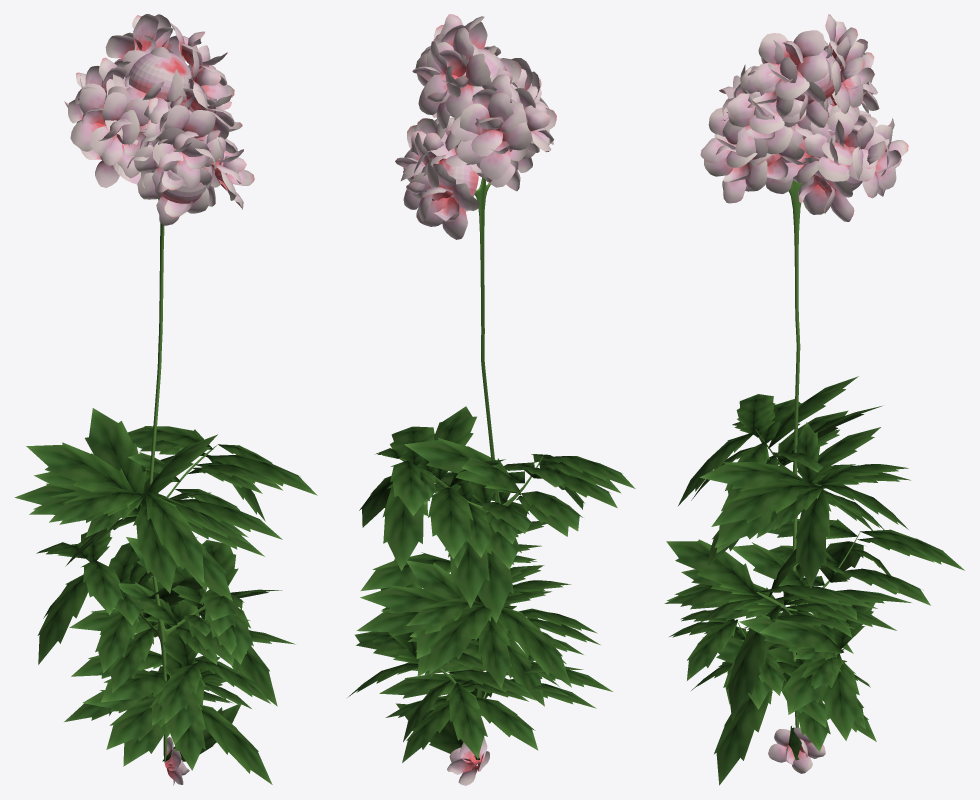
Rendered from Valeriana.fbx.
3 renders of one model, left to right at view 1: azimuth 30°, elevation 25°; view 2: azimuth 150°, elevation 25°; view 3: azimuth 270°, elevation 25°, orthographic. The views are drawn at different scales.
Visible parts, largest first — view 1: Sphere.004|Plane.006|Dupli|2, Sphere.003|Plane.006|Dupli|2, Cylinder.001|Plane|Dupli|74, Cylinder.001|Plane|Dupli|72, Cylinder.001|Plane|Dupli|70, Sphere.003|Plane.006|Dupli|3, Sphere, Cylinder.001|Plane|Dupli|43, Cylinder.001|Plane|Dupli|23, Cylinder.001|Plane|Dupli|77, Cylinder, Sphere.004|Plane.006|Dupli|3 (+50 smaller); view 2: Sphere.003|Plane.006|Dupli|5, Sphere|Plane.006|Dupli|5, Sphere.002|Plane.006|Dupli|6, Sphere.003|Plane.006|Dupli|, Cylinder.001|Plane|Dupli|92, Cylinder.001|Plane|Dupli|97, Cylinder.001|Plane|Dupli|40, Cylinder.001|Plane|Dupli|71, Cylinder.001|Plane|Dupli|43, Cylinder.001|Plane|Dupli|8, Sphere|Plane.006|Dupli|, Cylinder (+44 smaller); view 3: Sphere|Plane.006|Dupli|2, Sphere.002|Plane.006|Dupli|2, Cylinder.001|Plane|Dupli|57, Sphere.001|Plane.006|Dupli|3, Cylinder.001|Plane|Dupli|99, Cylinder.001|Plane|Dupli|23, Cylinder.001|Plane|Dupli|96, Sphere.002|Plane.006|Dupli|5, Cylinder.001|Plane|Dupli|58, Sphere|Plane.006|Dupli|, Sphere.002|Plane.006|Dupli|, Cylinder.001|Plane|Dupli|12 (+43 smaller).
Boxes of the visible parts, <box> form: Sphere.004|Plane.006|Dupli|2: <box>153,105,222,189</box>; Sphere.003|Plane.006|Dupli|2: <box>70,83,139,165</box>; Cylinder.001|Plane|Dupli|74: <box>26,442,139,504</box>; Cylinder.001|Plane|Dupli|72: <box>145,491,205,582</box>; Cylinder.001|Plane|Dupli|70: <box>85,408,146,509</box>; Sphere.003|Plane.006|Dupli|3: <box>90,92,152,178</box>; Sphere: <box>129,52,191,102</box>; Cylinder.001|Plane|Dupli|43: <box>37,574,88,664</box>; Cylinder.001|Plane|Dupli|23: <box>199,704,272,784</box>; Cylinder.001|Plane|Dupli|77: <box>133,499,180,593</box>; Cylinder: <box>149,198,171,761</box>; Sphere.004|Plane.006|Dupli|3: <box>133,127,208,195</box>; Sphere.003|Plane.006|Dupli|5: <box>456,92,532,179</box>; Sphere|Plane.006|Dupli|5: <box>423,27,490,116</box>; Sphere.002|Plane.006|Dupli|6: <box>411,163,479,239</box>; Sphere.003|Plane.006|Dupli|: <box>450,74,526,156</box>; Cylinder.001|Plane|Dupli|92: <box>428,487,473,558</box>; Cylinder.001|Plane|Dupli|97: <box>382,483,427,570</box>; Cylinder.001|Plane|Dupli|40: <box>428,604,492,674</box>; Cylinder.001|Plane|Dupli|71: <box>404,438,520,491</box>; Cylinder.001|Plane|Dupli|43: <box>498,607,571,687</box>; Cylinder.001|Plane|Dupli|8: <box>446,682,487,758</box>; Sphere|Plane.006|Dupli|: <box>412,41,460,128</box>; Cylinder: <box>474,177,504,760</box>; Sphere|Plane.006|Dupli|2: <box>749,30,827,99</box>; Sphere.002|Plane.006|Dupli|2: <box>804,111,886,181</box>; Cylinder.001|Plane|Dupli|57: <box>666,539,755,594</box>; Sphere.001|Plane.006|Dupli|3: <box>704,120,768,203</box>; Cylinder.001|Plane|Dupli|99: <box>711,479,820,526</box>; Cylinder.001|Plane|Dupli|23: <box>714,689,772,785</box>; Cylinder.001|Plane|Dupli|96: <box>795,486,831,588</box>; Sphere.002|Plane.006|Dupli|5: <box>852,122,901,198</box>; Cylinder.001|Plane|Dupli|58: <box>726,605,779,721</box>; Sphere|Plane.006|Dupli|: <box>832,36,874,113</box>; Sphere.002|Plane.006|Dupli|: <box>793,157,854,221</box>; Cylinder.001|Plane|Dupli|12: <box>821,661,860,740</box>.
Bounding box in the file's own units: 255 × 704 × 255.
